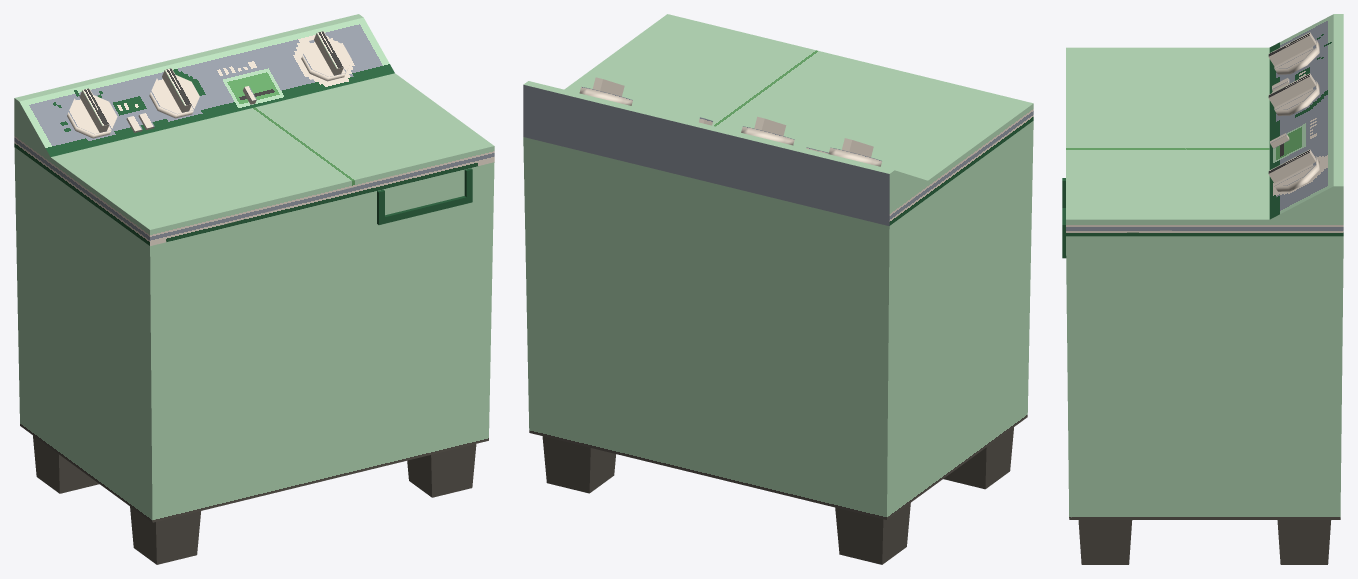
Rendered from 04a9_Washing_Machine.glb.
The picture shows the model from 3 angles, left to right: view 1: azimuth 30°, elevation 25°; view 2: azimuth 150°, elevation 25°; view 3: azimuth 270°, elevation 25°; orthographic projection. The views are drawn at different scales.
Parts seen in each view (by area): view 1: part_0; view 2: part_0; view 3: part_0.
Part boxes in pixels (<box>): part_0: <box>14,14,494,564</box>; part_0: <box>523,14,1033,564</box>; part_0: <box>1062,14,1343,564</box>.
Size of the model in its own units: 1.1 by 1.17 by 0.76.
Materials: 1 (1 with a texture image).
